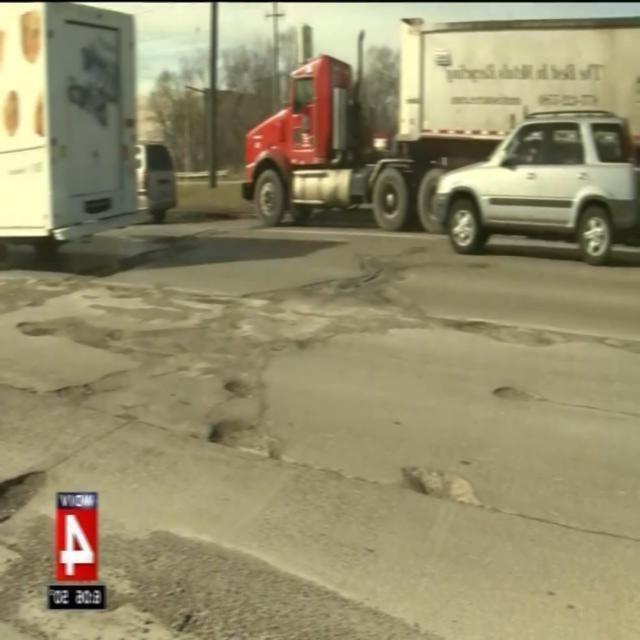Pothole: (110, 533, 416, 640), (439, 314, 640, 354), (299, 266, 412, 318), (382, 455, 490, 509), (11, 307, 125, 351), (198, 414, 285, 467), (99, 280, 247, 308), (0, 462, 61, 519), (484, 379, 546, 405), (223, 373, 268, 405)
